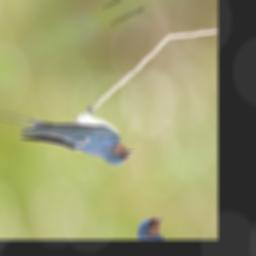Swallow: (0, 63, 137, 207)
